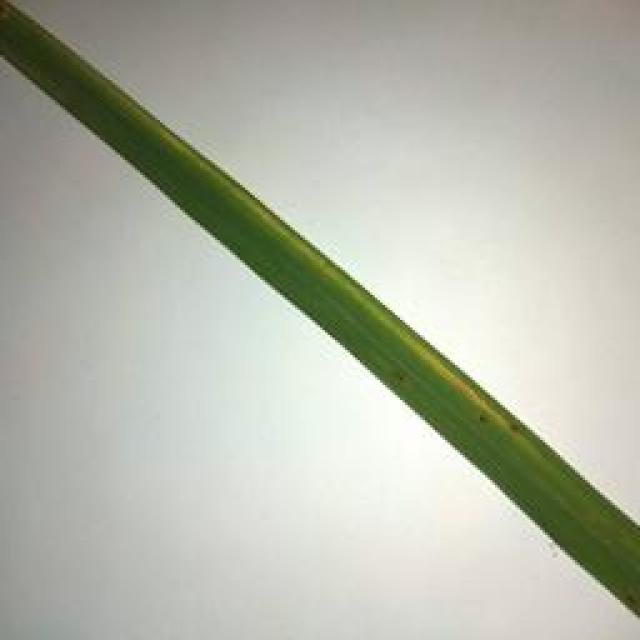Brown_Spot: (472, 401, 528, 442), (618, 581, 640, 607)
